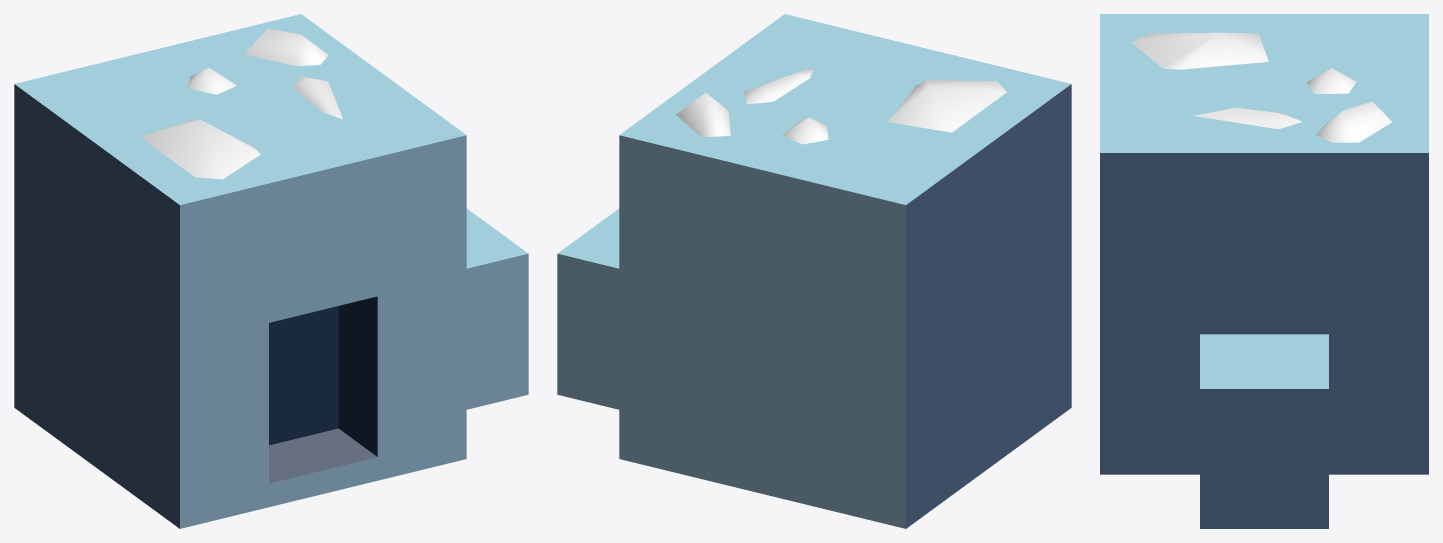
The model's file is iceHouseB.fbx.
The picture shows the model from 3 angles, left to right: view 1: azimuth 30°, elevation 25°; view 2: azimuth 150°, elevation 25°; view 3: azimuth 270°, elevation 25°; orthographic projection.
Parts seen in each view (by area): view 1: iceHouseB_entrance, iceHouseB_living, snow1, snow4, snow2, snow3; view 2: iceHouseB_entrance, iceHouseB_living, snow1, snow4, snow2, snow3; view 3: iceHouseB_entrance, iceHouseB_living, snow1, snow4, snow2, snow3.
Boxes of the visible parts, x1,y1,x2,y2 form: iceHouseB_entrance: (14,14,466,528); iceHouseB_living: (466,208,528,409); snow1: (140,119,260,179); snow4: (244,28,328,66); snow2: (293,76,342,119); snow3: (187,68,236,94); iceHouseB_entrance: (619,14,1071,528); iceHouseB_living: (557,208,619,409); snow1: (888,79,1006,132); snow4: (676,92,730,137); snow2: (744,67,814,104); snow3: (782,117,828,144); iceHouseB_entrance: (1100,14,1428,474); iceHouseB_living: (1200,334,1328,528); snow1: (1131,32,1268,69); snow4: (1316,101,1392,142); snow2: (1194,107,1302,129); snow3: (1306,68,1356,93).
Bounding box in the file's own units: 177 × 146 × 127.
1 material, 1 textured.
